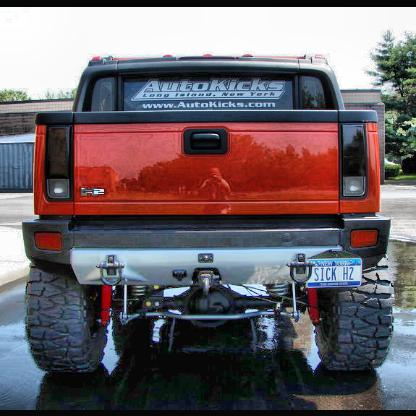HUMMER H2 SUT Crew Cab 2009: (23, 54, 395, 373)
